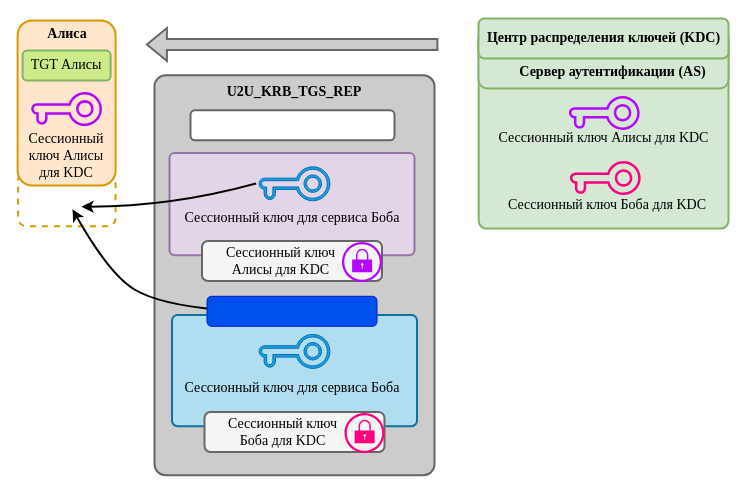
Image size: 748x493. Some labels were removed from this diagram. The shapes that lost their labels are listed below. From the top down, each one's centre as x and y in pixels, then its label:
At (292,125): "Принципал сервиса Боба".
At (291,310): "TGS билет к сервису Боба".
